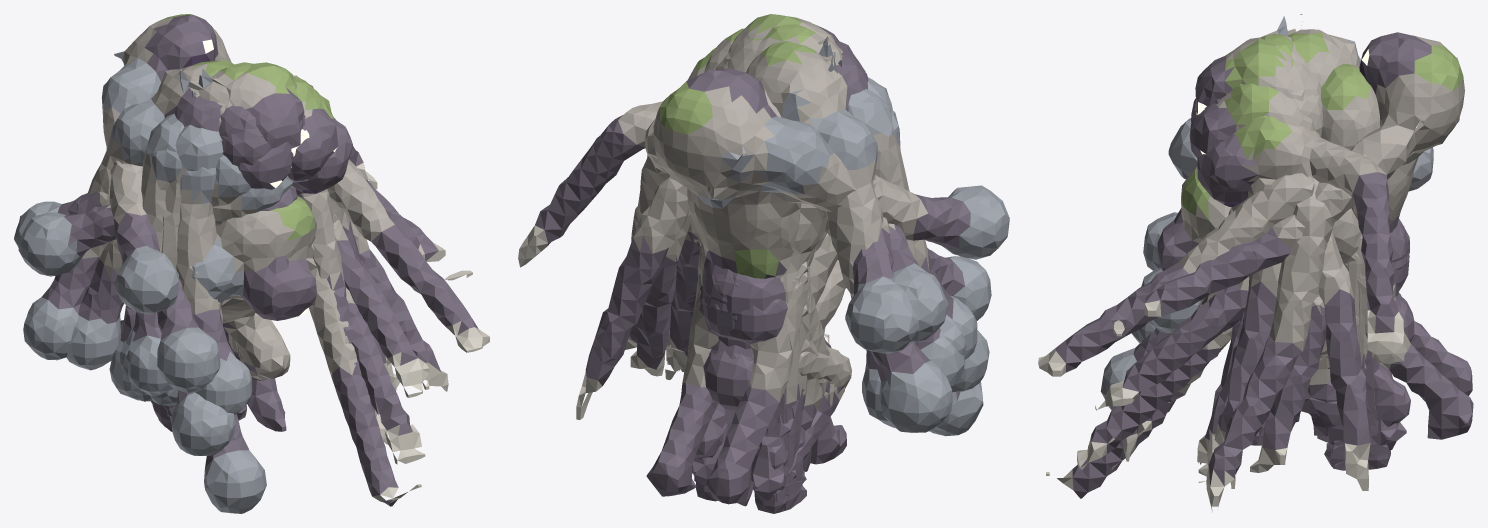
Rendered from rodeur.glb.
The picture shows the model from 3 angles, left to right: view 1: azimuth 30°, elevation 25°; view 2: azimuth 150°, elevation 25°; view 3: azimuth 270°, elevation 25°; orthographic projection. The views are drawn at different scales.
Parts seen in each view (by area): view 1: death_03, death_00, attack_01, attack_00, attack_02, death_01, walk_00, walk_02, idle_02, death_02, walk_03, idle_03; view 2: death_00, attack_00, walk_02, walk_00, walk_03, attack_01, attack_02, death_03, death_01, attack_03, death_02, idle_02 (+4 smaller); view 3: death_00, attack_02, attack_01, death_01, attack_00, walk_02, idle_02, death_03, walk_00, attack_03, death_02, walk_01 (+2 smaller).
Part boxes in pixels (<box>): death_03: <box>191,196,421,513</box>; death_00: <box>101,14,472,314</box>; attack_01: <box>14,77,489,352</box>; attack_00: <box>23,61,377,419</box>; attack_02: <box>18,90,448,431</box>; death_01: <box>142,60,429,416</box>; walk_00: <box>66,142,387,444</box>; walk_02: <box>120,90,293,431</box>; idle_02: <box>161,62,400,390</box>; death_02: <box>163,186,425,464</box>; walk_03: <box>126,62,256,396</box>; idle_03: <box>109,102,337,400</box>; death_00: <box>644,68,1009,500</box>; attack_00: <box>518,41,952,501</box>; walk_02: <box>576,59,842,506</box>; walk_00: <box>646,229,894,496</box>; walk_03: <box>670,24,977,469</box>; attack_01: <box>698,28,919,479</box>; attack_02: <box>625,47,948,510</box>; death_03: <box>703,260,983,471</box>; death_01: <box>694,87,991,513</box>; attack_03: <box>630,56,802,495</box>; death_02: <box>709,230,989,483</box>; idle_02: <box>665,14,892,472</box>; death_00: <box>1113,32,1464,450</box>; attack_02: <box>1197,116,1390,512</box>; attack_01: <box>1038,83,1433,451</box>; death_01: <box>1095,64,1398,468</box>; attack_00: <box>1287,29,1404,466</box>; walk_02: <box>1141,230,1472,490</box>; idle_02: <box>1195,16,1408,448</box>; death_03: <box>1046,165,1414,498</box>; walk_00: <box>1111,98,1473,469</box>; attack_03: <box>1215,94,1361,472</box>; death_02: <box>1077,292,1403,469</box>; walk_01: <box>1198,58,1410,464</box>.
Bounding box in the file's own units: 1.92 × 2.04 × 1.87.
